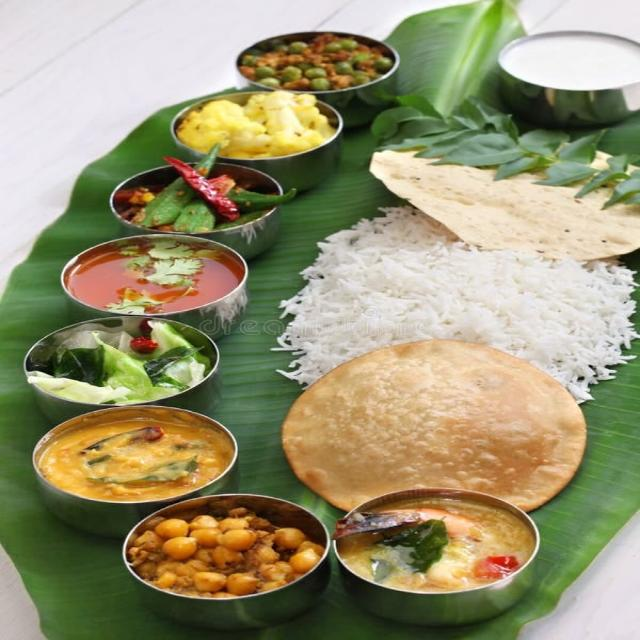veg meals: (19, 16, 640, 626)
